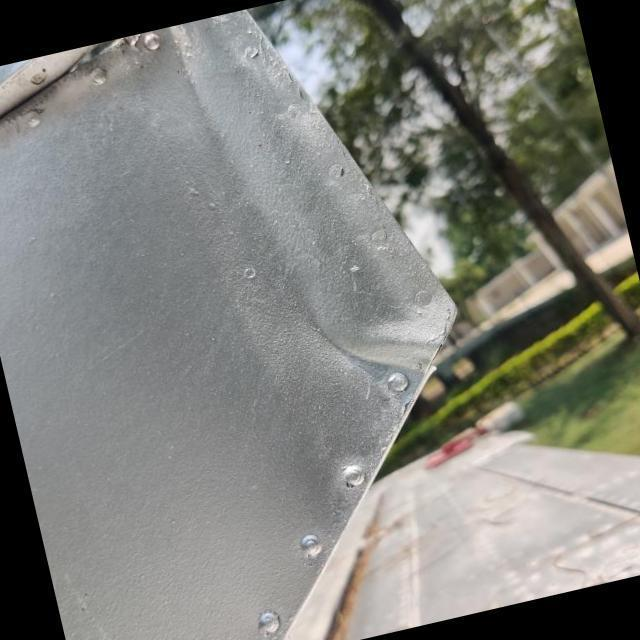dent: (316, 266, 454, 398)
